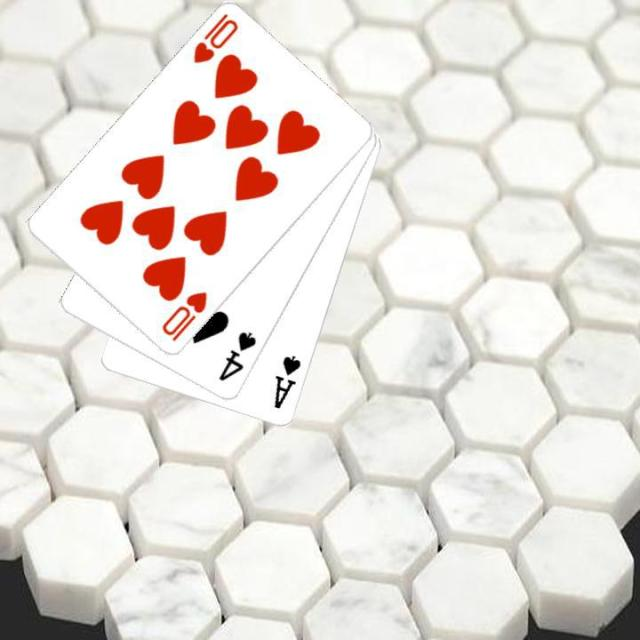10H: (157, 288, 209, 344), (189, 10, 241, 66)
4S: (215, 328, 259, 383)
AS: (270, 352, 303, 412)
